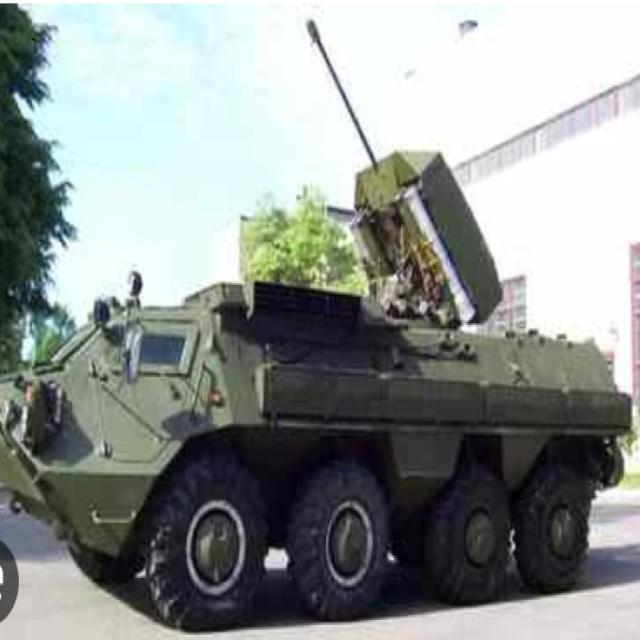MIL_APC: (14, 275, 640, 605)
